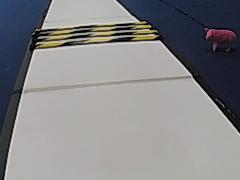bump: (28, 17, 161, 51)
